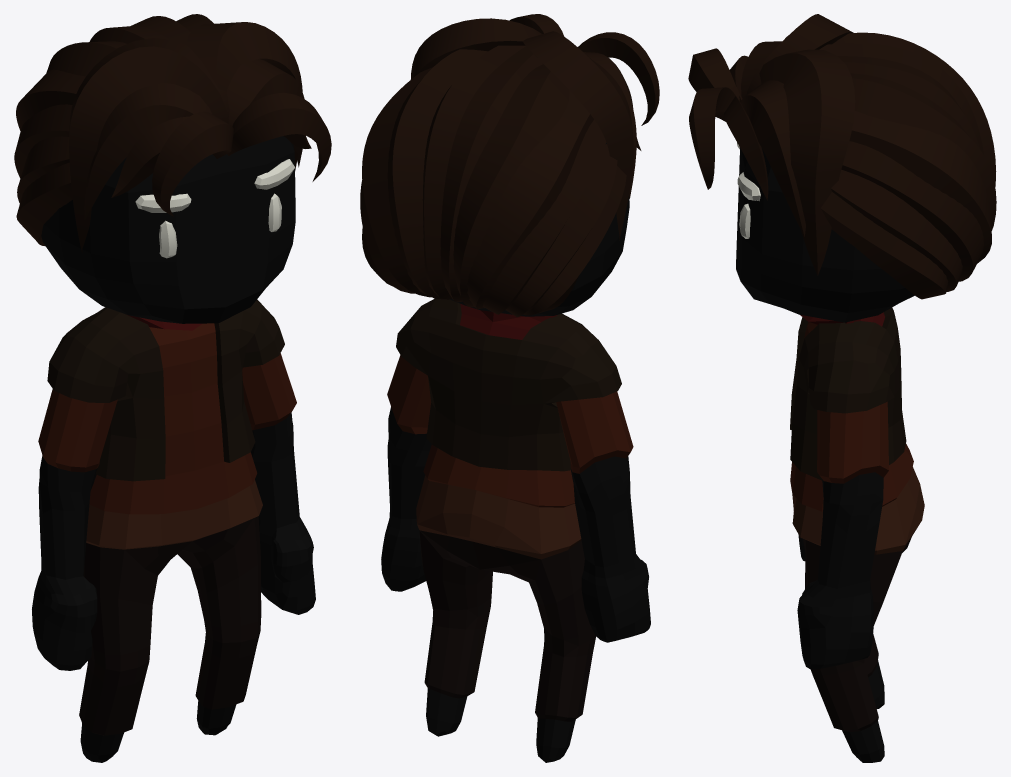
The model's file is Cowboy_Hair.obj.
3 renders of one model, left to right at view 1: azimuth 30°, elevation 25°; view 2: azimuth 150°, elevation 25°; view 3: azimuth 270°, elevation 25°, orthographic. The views are drawn at different scales.
Parts seen in each view (by area): view 1: Body_Cube.004; view 2: Body_Cube.004; view 3: Body_Cube.004.
Boxes of the visible parts, bbox=[...] form: Body_Cube.004: bbox=[14, 14, 331, 762]; Body_Cube.004: bbox=[360, 14, 659, 762]; Body_Cube.004: bbox=[688, 14, 996, 762].
Size of the model in its own units: 1.27 by 3.28 by 1.31.
